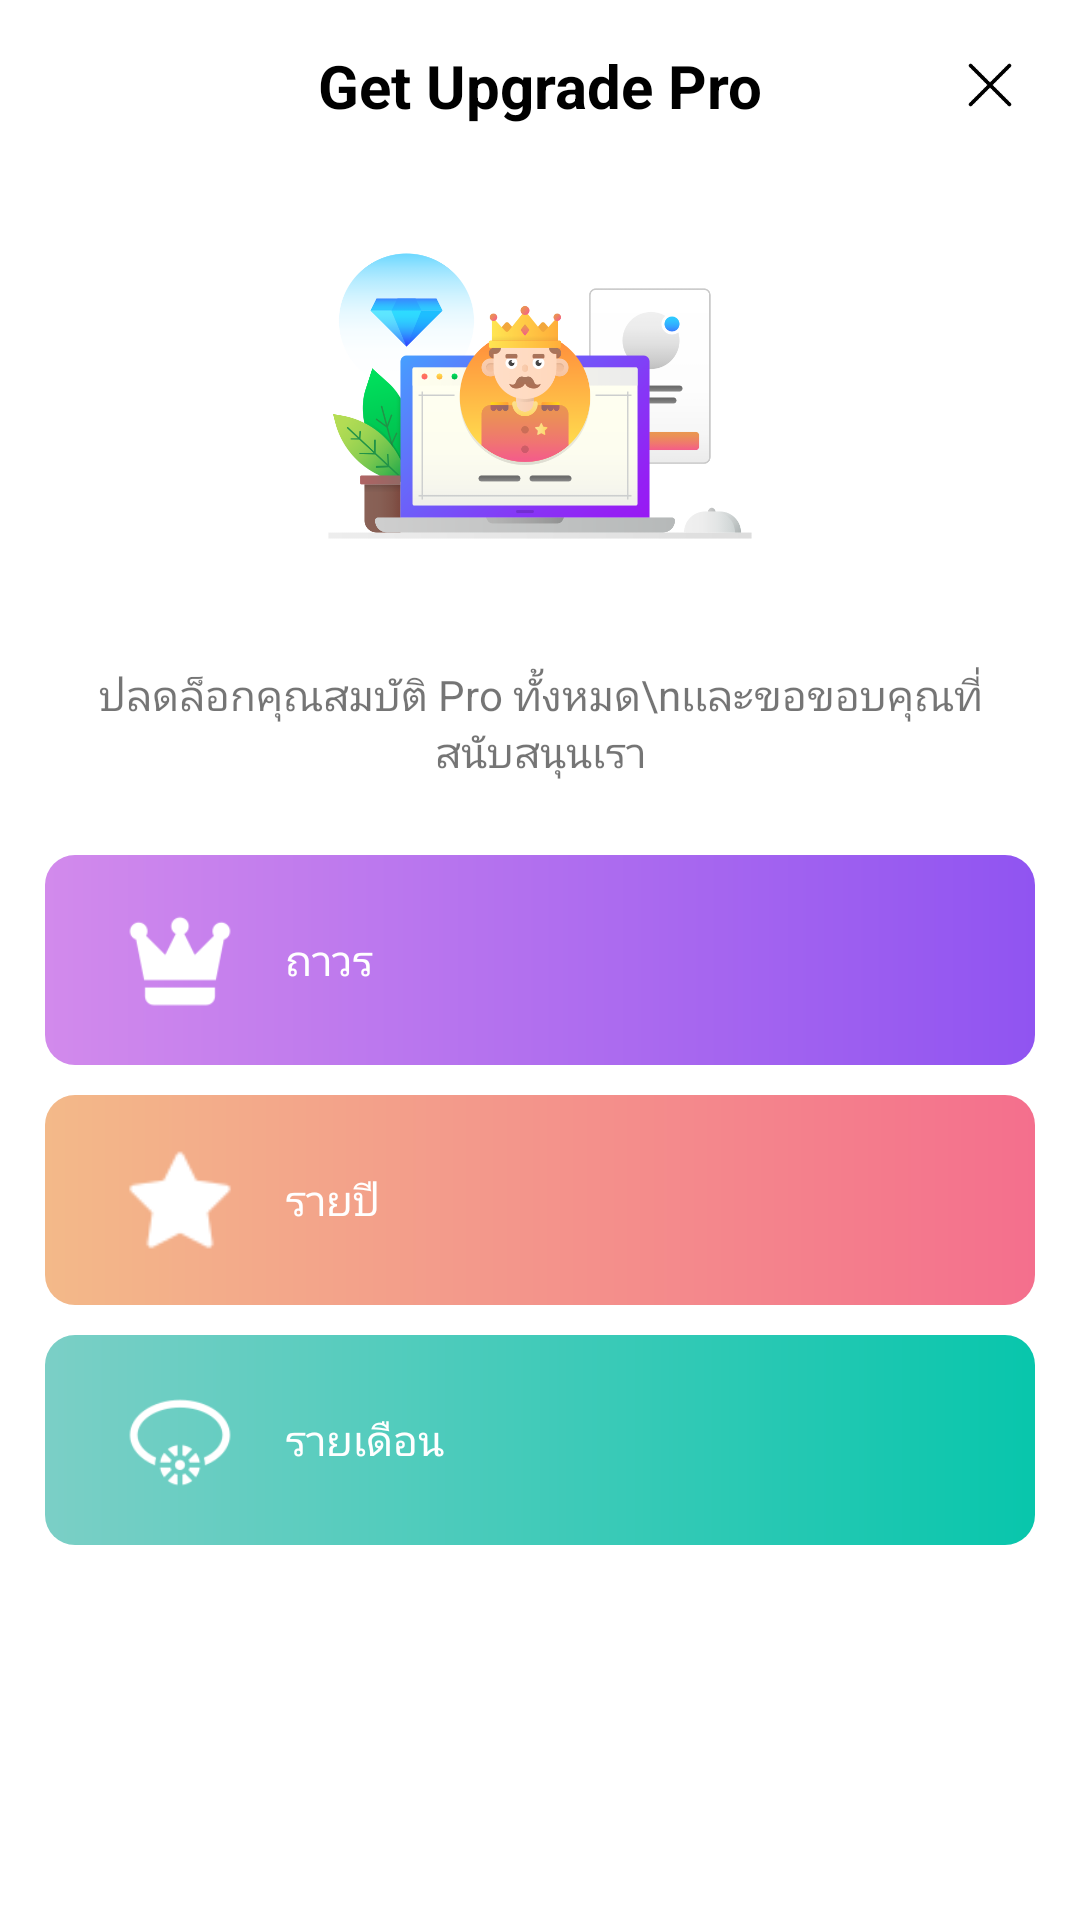

Screen size 1080px×1920px. Icon name, then its center in pixels as (x,y):
close: (990,85)
crown: (180,961)
ring: (180,1442)
star: (180,1200)
